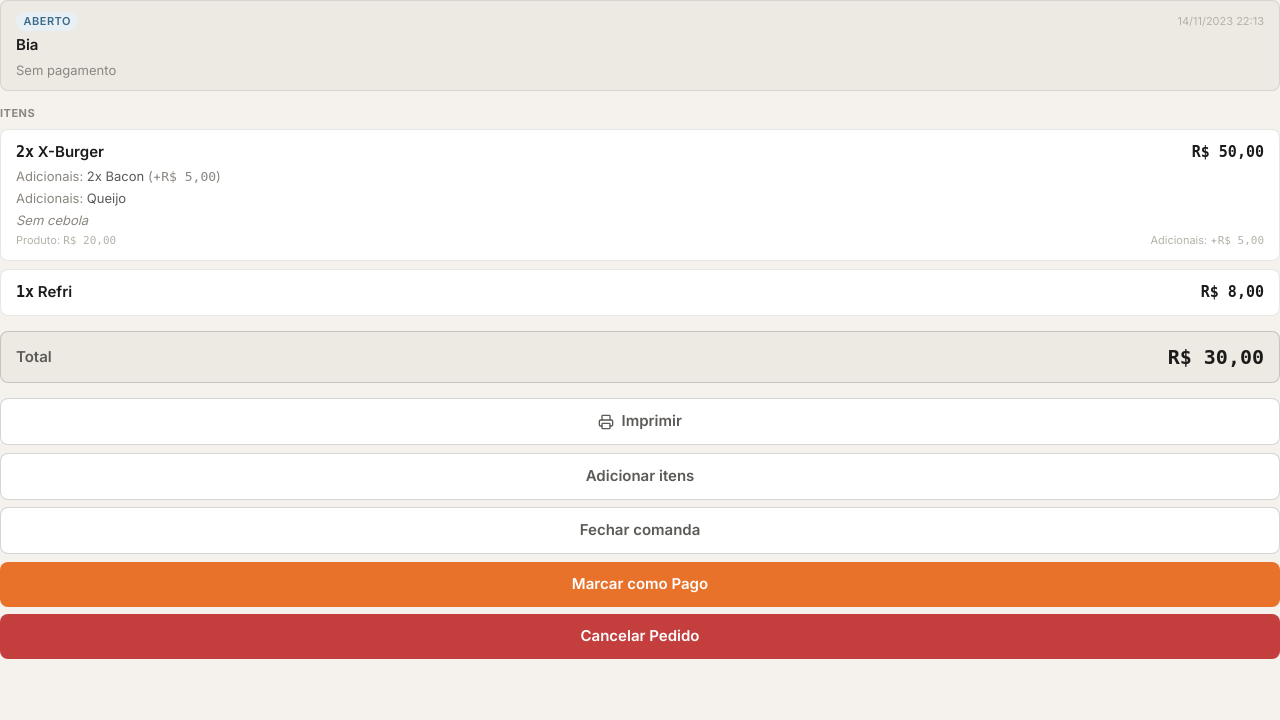
Test: OrderDetail › marks paid through the payment-method modal
Click the button "Marcar como Pago" at (640, 584), box [0, 562, 1279, 607]
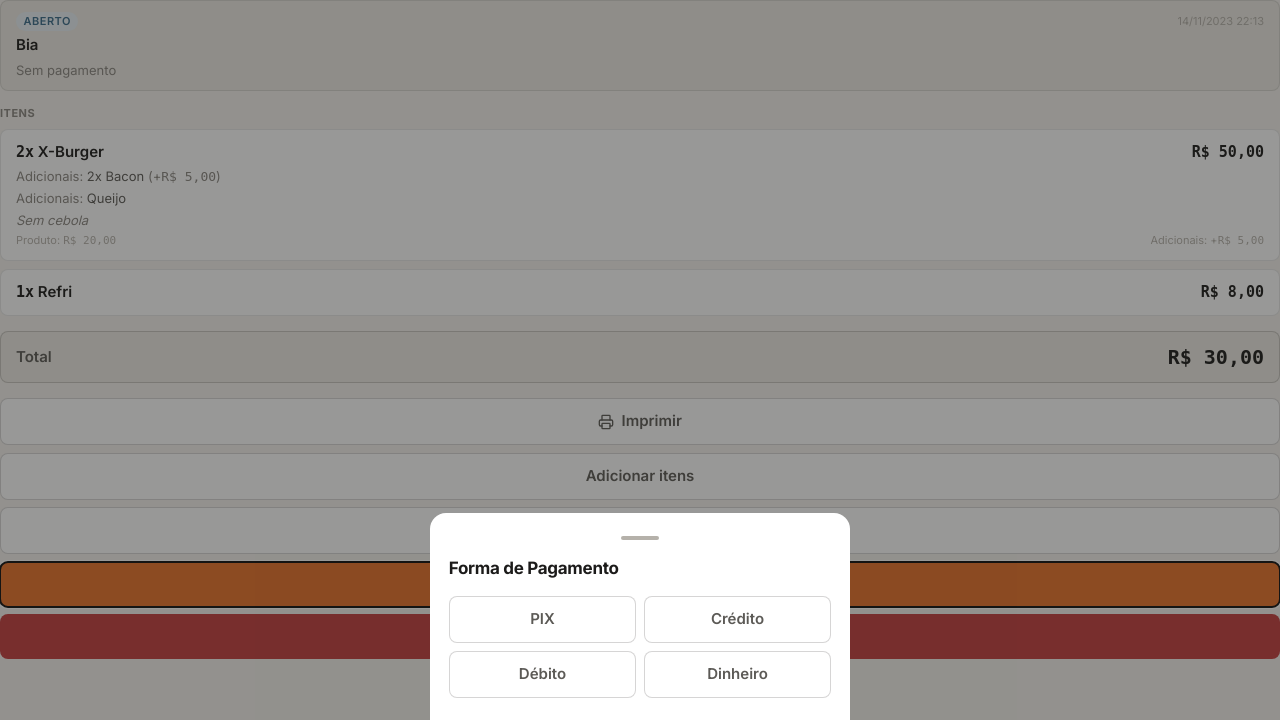
Click the button "PIX" at (543, 620), box [449, 596, 636, 643]
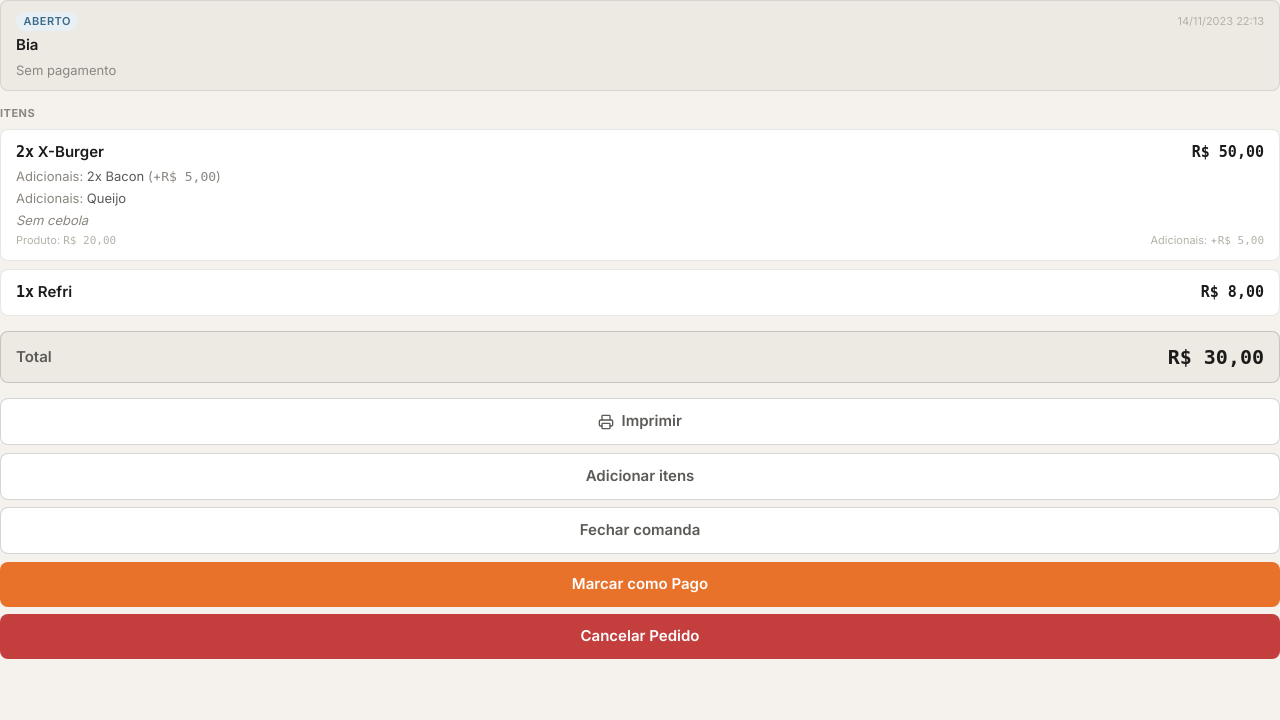
Expected: the dialog is gone
